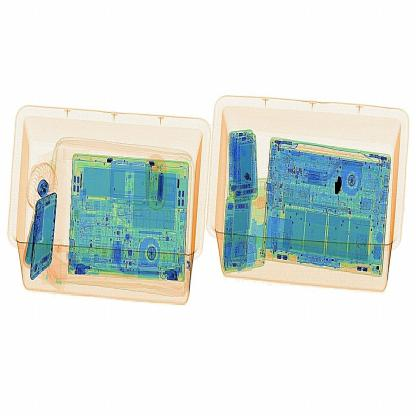knife: (328, 170, 349, 205)
